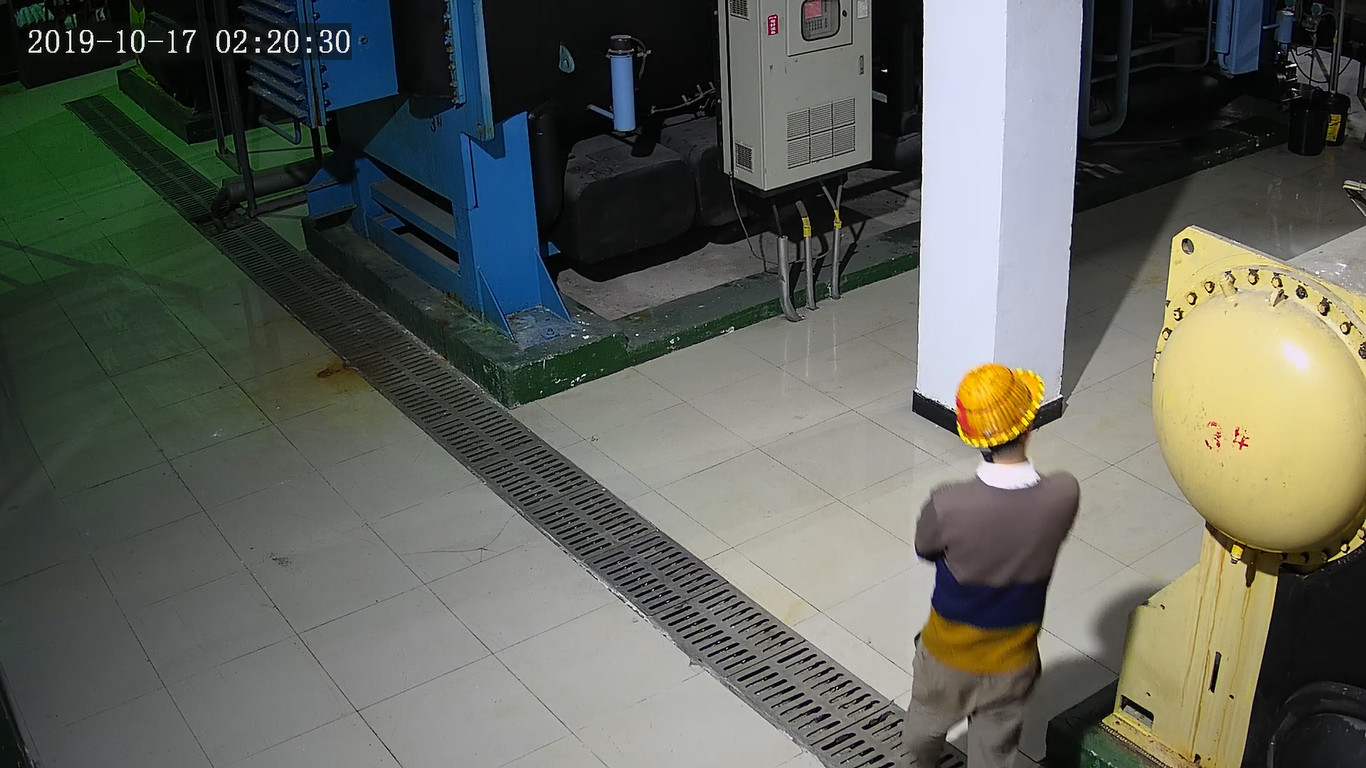helmet: (956, 363, 1044, 448)
